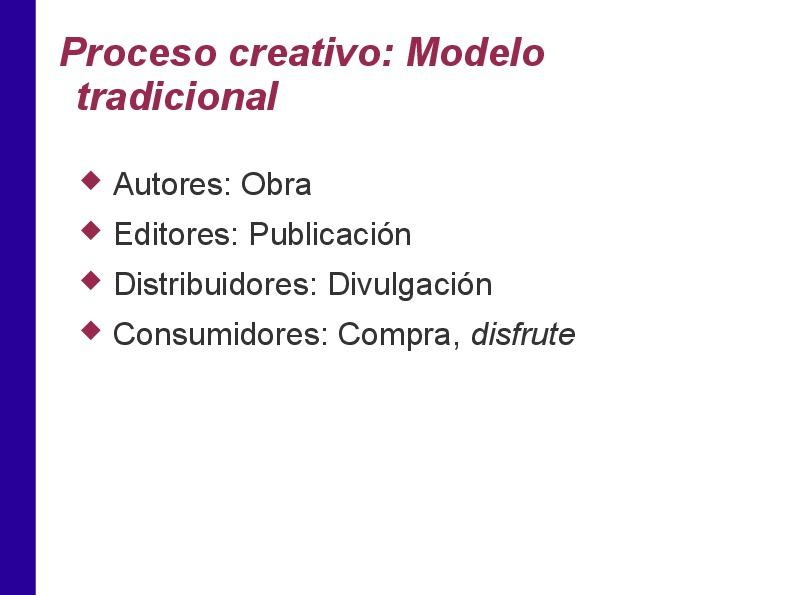paragraph: (63, 156, 637, 366)
title: (53, 21, 568, 126)
